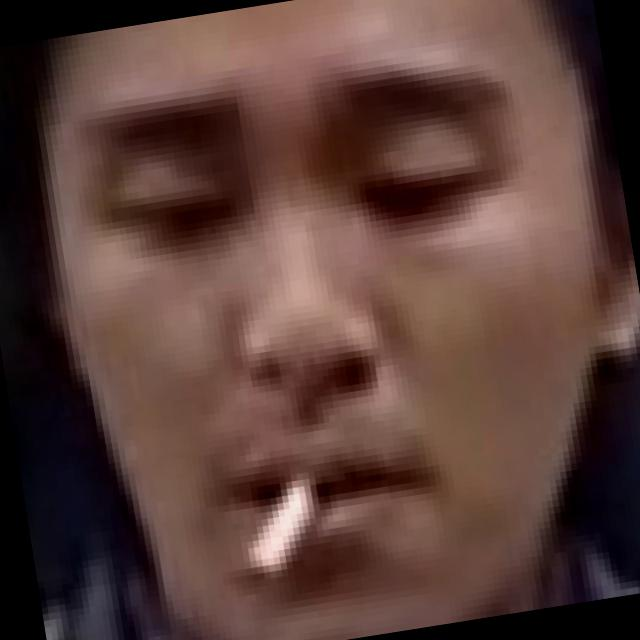cigarette: (226, 474, 353, 596)
